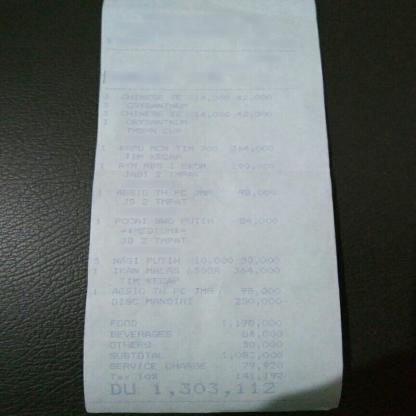receipts: (102, 1, 322, 402)
